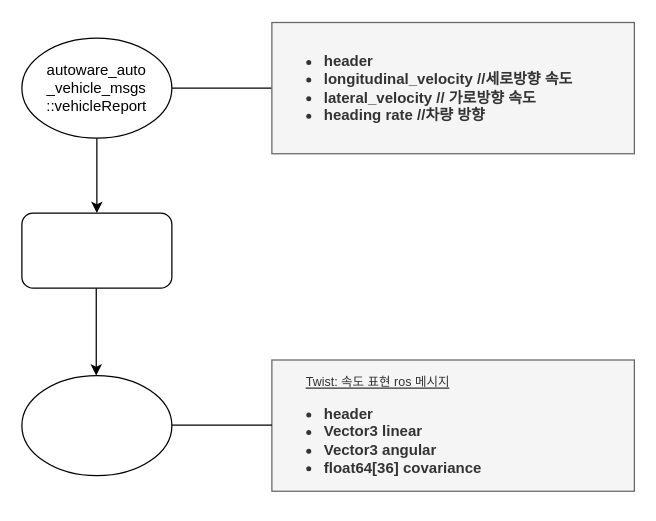
Some shapes in this 656 by 521 pixel diagram are drawn without their labels. Here are the shapes that lost their labels. From the top down, the box of each, then its label:
(21, 212, 172, 288): vehicle_velocity _converter
(21, 374, 172, 476): ros::TwistWith CovarianceStamped
